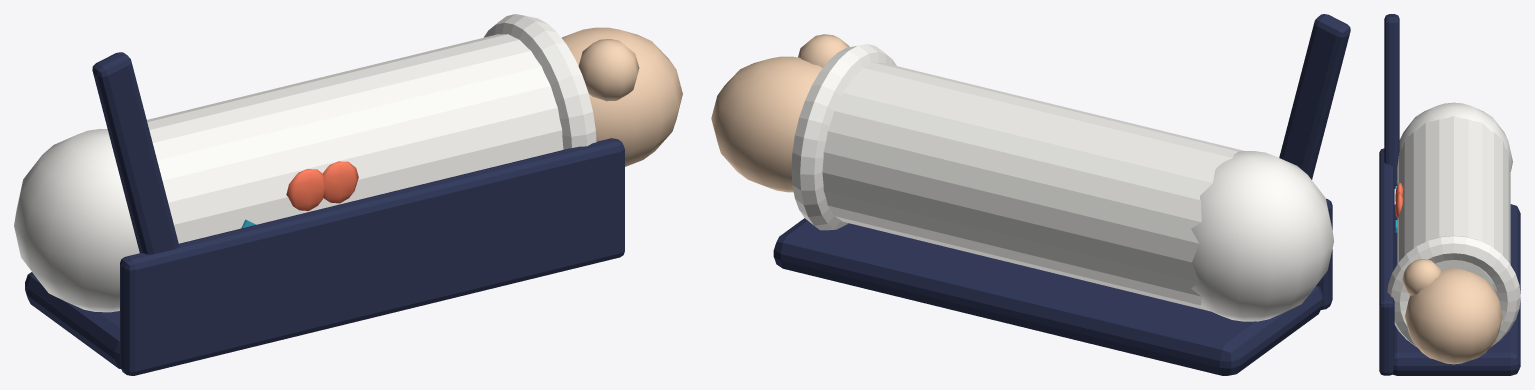
File: arm_cast.glb
The picture shows the model from 3 angles, left to right: view 1: azimuth 30°, elevation 25°; view 2: azimuth 150°, elevation 25°; view 3: azimuth 270°, elevation 25°; orthographic projection. The views are drawn at different scales.
Parts seen in each view (by area): view 1: cradleFront, cast, elbow, strap, fist, cuff, cradle, thumb, heart1, heart2; view 2: cast, cradle, elbow, fist, cuff, strap, thumb, cradleFront; view 3: cast, fist, cuff, cradle, cradleFront, strap, elbow, thumb, heart2.
Boxes of the visible parts, box(x1,y1,x2,y2) form: cradleFront: box(120, 138, 624, 375); cast: box(147, 34, 563, 243); elbow: box(14, 129, 139, 312); strap: box(92, 52, 179, 254); fist: box(562, 27, 682, 166); cuff: box(484, 14, 596, 149); cradle: box(25, 272, 120, 368); thumb: box(578, 39, 639, 101); heart1: box(286, 169, 324, 210); heart2: box(322, 161, 358, 203); cast: box(822, 62, 1243, 311); cradle: box(773, 218, 1323, 375); elbow: box(1191, 151, 1333, 321); fist: box(711, 56, 822, 192); cuff: box(791, 44, 896, 230); strap: box(1279, 14, 1350, 179); thumb: box(798, 34, 849, 67); cradleFront: box(1316, 198, 1332, 309); cast: box(1397, 116, 1510, 289); fist: box(1405, 268, 1502, 364); cuff: box(1387, 235, 1520, 347); cradle: box(1393, 204, 1520, 375); cradleFront: box(1379, 148, 1394, 375); strap: box(1384, 14, 1399, 188); elbow: box(1399, 102, 1512, 171); thumb: box(1402, 259, 1441, 295); heart2: box(1395, 192, 1403, 220).
Bounding box in the file's own units: 0.935 × 0.4434 × 0.275.
